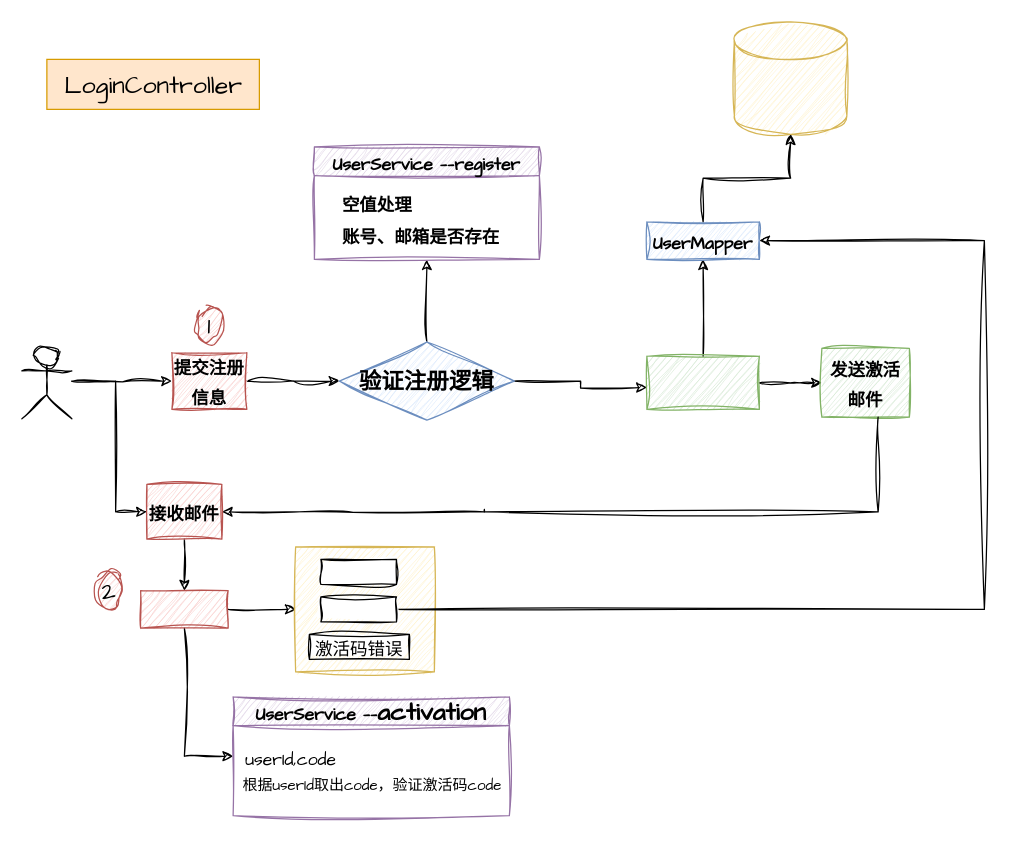
Image size: 1016x856. Some labels were removed from this diagram. Here are the shapes that lost their labels. From the top down, the centre of each, then its label:
the point at 790,77: MySQL
the point at 46,382: YOu
the point at 702,382: 注册用户
the point at 358,571: 重复激活
the point at 183,608: 激活
the point at 358,609: 激活成功
